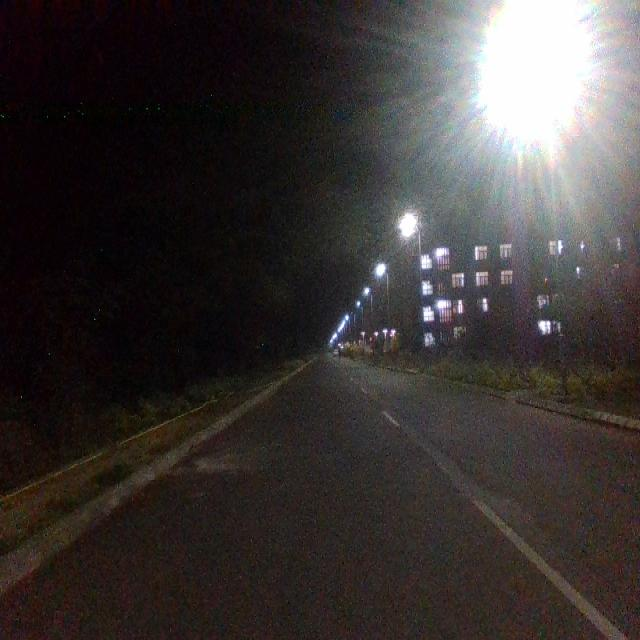lane: (0, 361, 608, 640)
